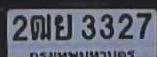2: (12, 14, 28, 41), (117, 13, 133, 39)
3: (81, 14, 96, 40), (99, 14, 114, 39)
7: (136, 12, 152, 40)
A18: (30, 14, 51, 41)
A34: (54, 13, 72, 40)
